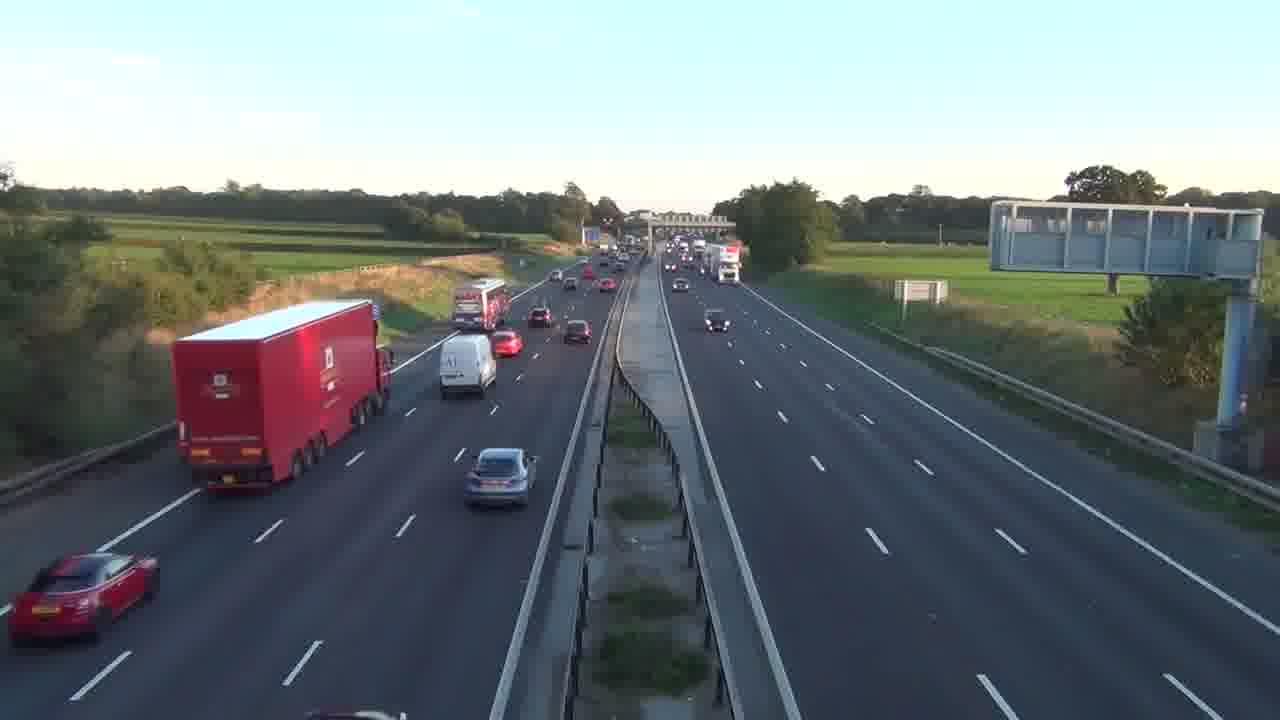bus: (451, 278, 512, 330)
car: (1, 551, 161, 645), (462, 447, 534, 510), (563, 320, 592, 344), (526, 307, 552, 328)
truck: (170, 298, 384, 496), (171, 298, 384, 496), (439, 334, 498, 396)
